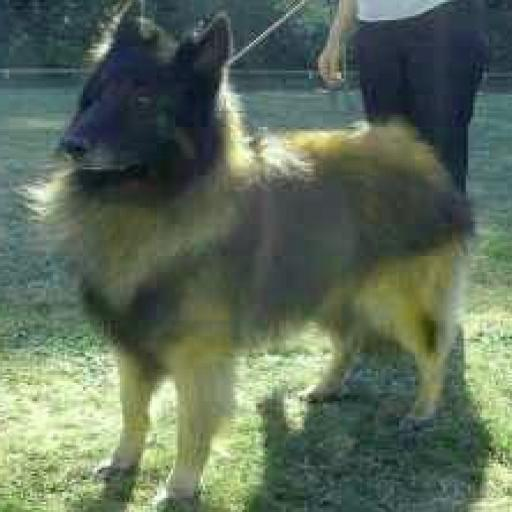dog_face: (55, 2, 231, 183)
